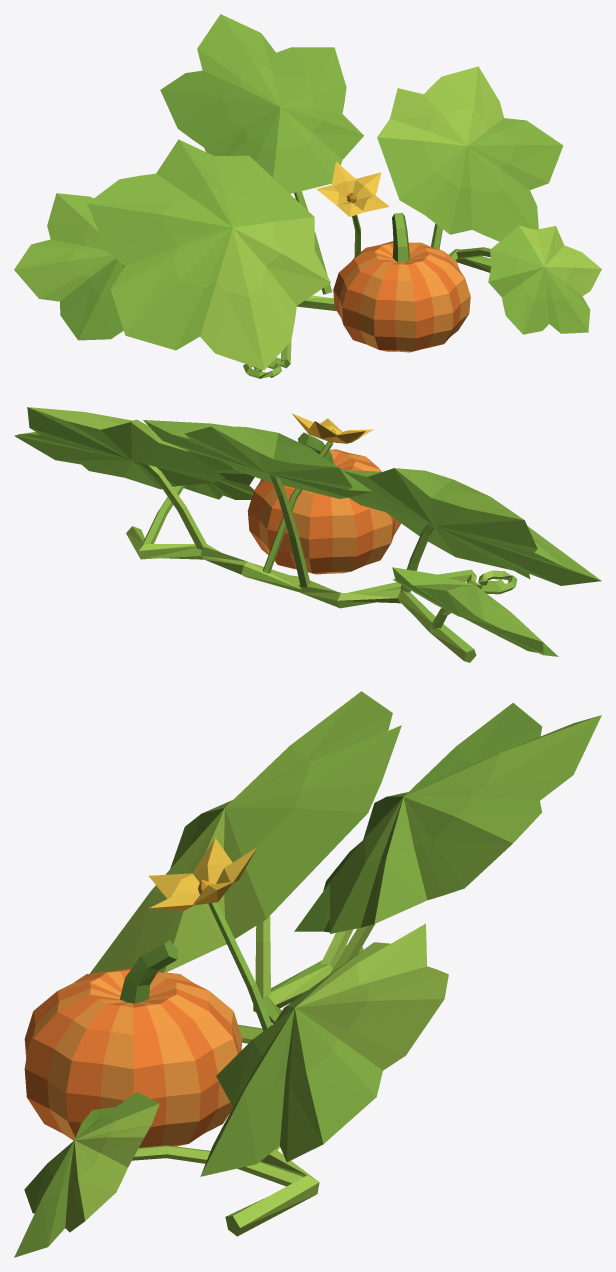
The model's file is FMS_Crop_Pumpkin_S3.fbx.
3 renders of one model, top to bottom at view 1: azimuth 30°, elevation 25°; view 2: azimuth 150°, elevation 25°; view 3: azimuth 270°, elevation 25°, orthographic. The views are drawn at different scales.
Visible parts, largest first — view 1: FMS_Crop_Pumpkin_S3; view 2: FMS_Crop_Pumpkin_S3; view 3: FMS_Crop_Pumpkin_S3.
Boxes of the visible parts, x1,y1,x2,y2 form: FMS_Crop_Pumpkin_S3: (14, 14, 601, 378); FMS_Crop_Pumpkin_S3: (14, 407, 601, 662); FMS_Crop_Pumpkin_S3: (14, 691, 601, 1257).
Bounding box in the file's own units: 1.28 × 0.5625 × 0.7706.
